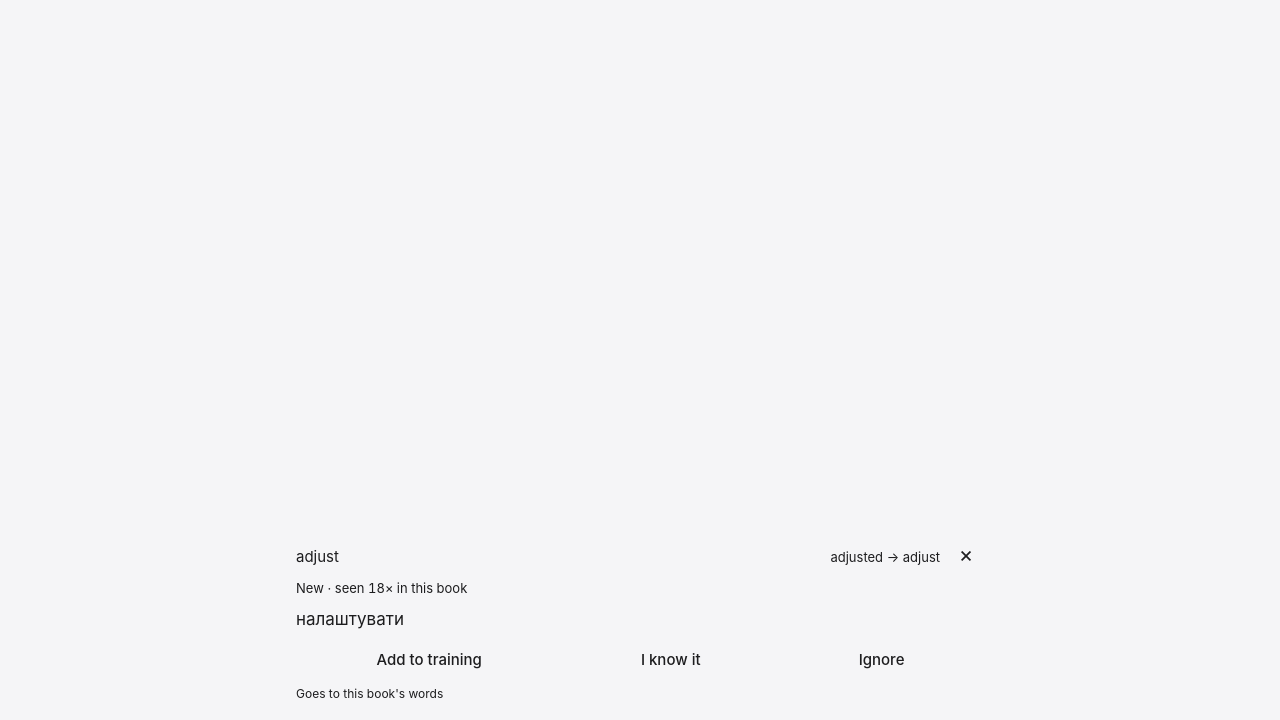
Test: WordPanel › stays open when the action fails
Click the button "I know it" at [671, 660], box [568,642,773,678]
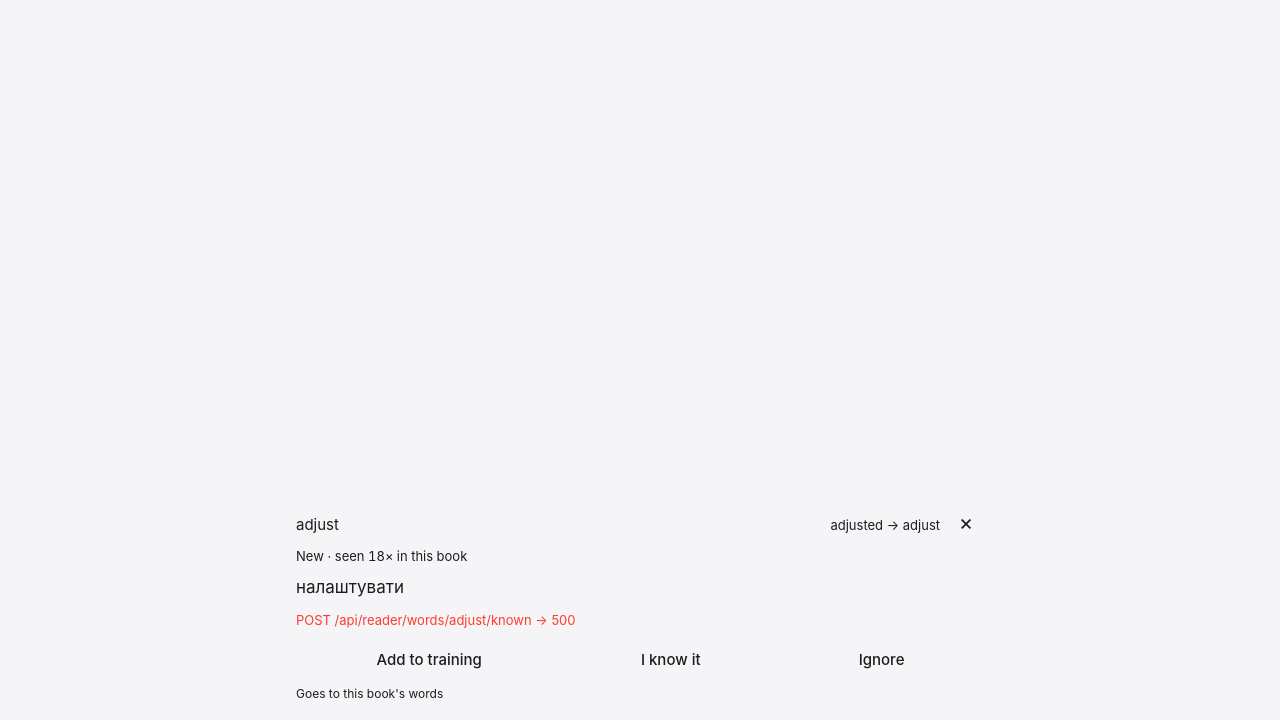
Expected: the text "POST /api/reader/words/adjust/known → 500" is shown, [296,612,576,628]
